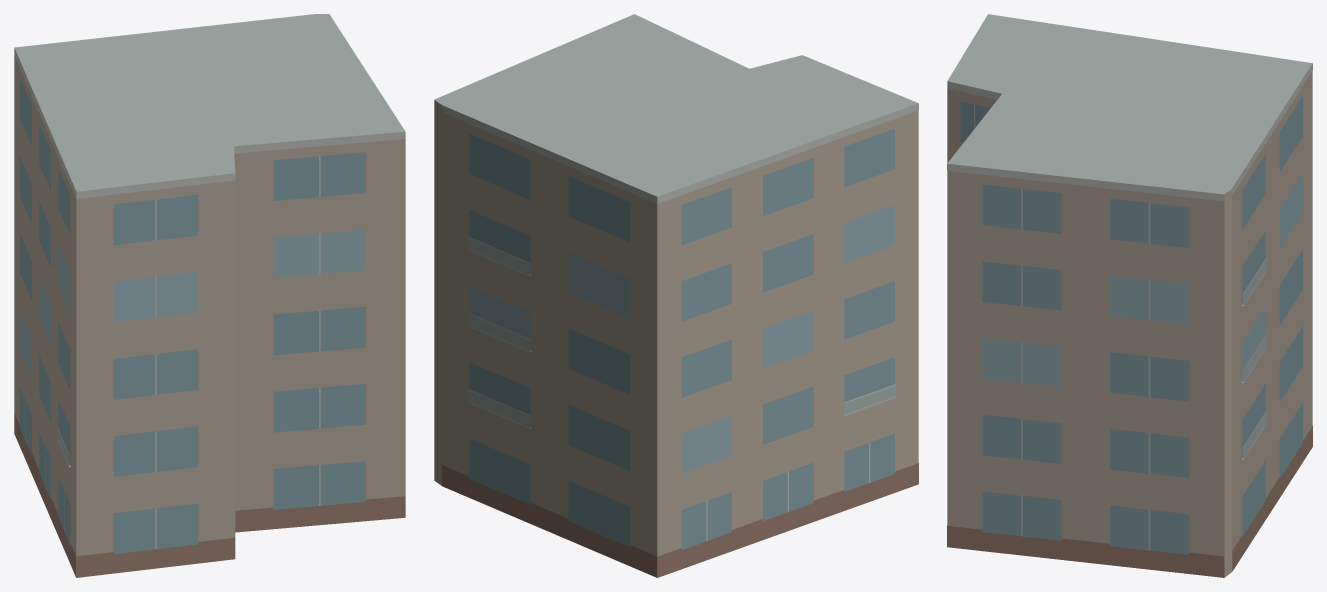
The model's file is survey-upis-32868080.glb.
3 renders of one model, left to right at view 1: azimuth 30°, elevation 25°; view 2: azimuth 150°, elevation 25°; view 3: azimuth 270°, elevation 25°, orthographic.
Parts seen in each view (by area): view 1: survey-upis-32868080.tmp; view 2: survey-upis-32868080.tmp; view 3: survey-upis-32868080.tmp.
Part boxes in pixels (x1,y1,x2,y2): survey-upis-32868080.tmp: (14,14,405,577); survey-upis-32868080.tmp: (434,14,918,577); survey-upis-32868080.tmp: (947,14,1312,577).
Bounding box in the file's own units: 13.12 × 13 × 11.24.
